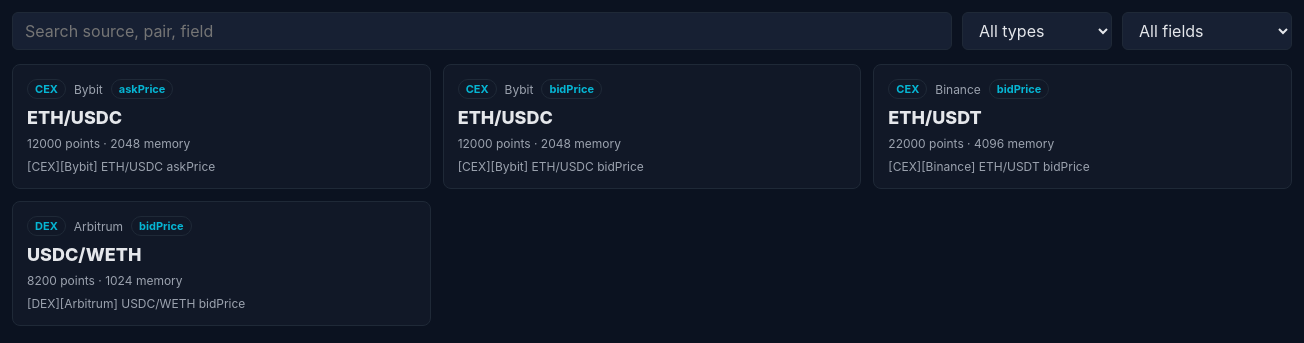
QuoteSourceSelector › filters by source type and field
The image size is (1304, 343).
Step 1. Select "DEX" in the dropdown named "Filter source type" → [1037, 31], box x1=962 y1=12 x2=1112 y2=50
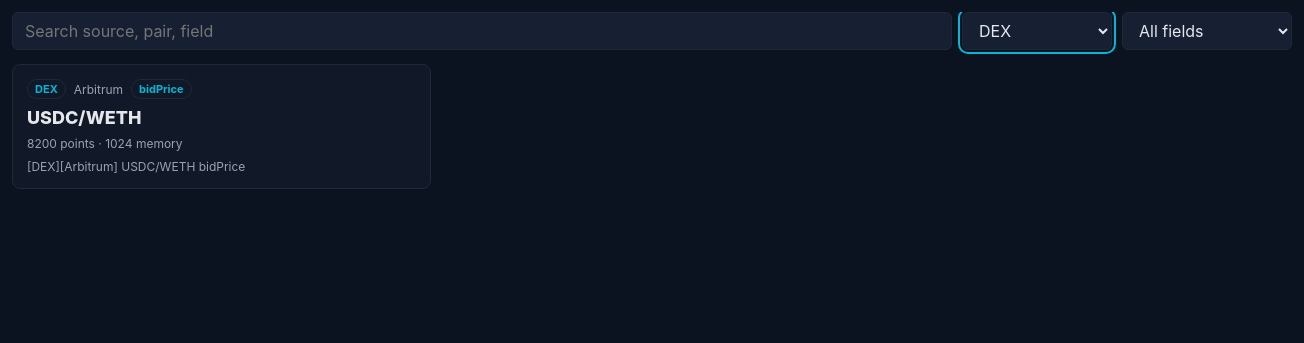
Expected: the text "USDC/WETH" is shown, x1=27 y1=107 x2=142 y2=128
Now the button "ETH/USDC" is gone
Step 2. Select "askPrice" in the dropdown named "Filter quote field" → [1207, 31], box x1=1122 y1=12 x2=1292 y2=50
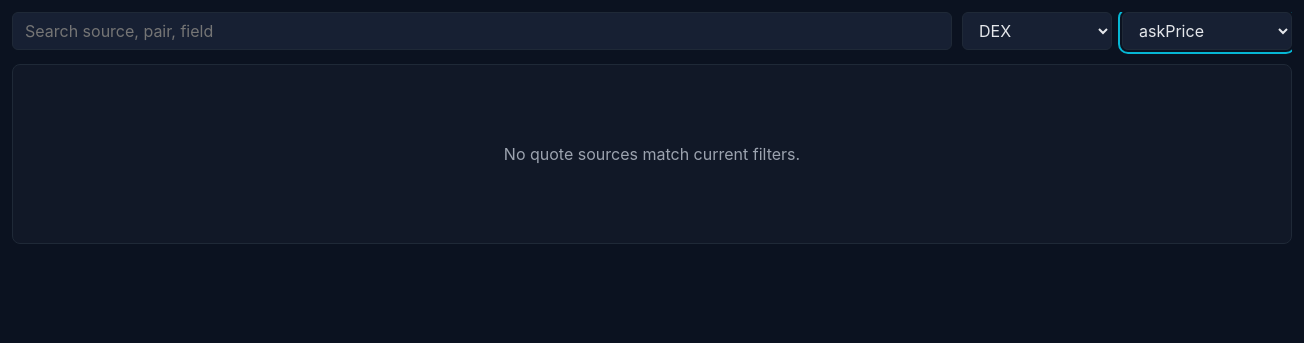
Now the text "No quote sources match current filters." is shown, box x1=12 y1=64 x2=1292 y2=244
